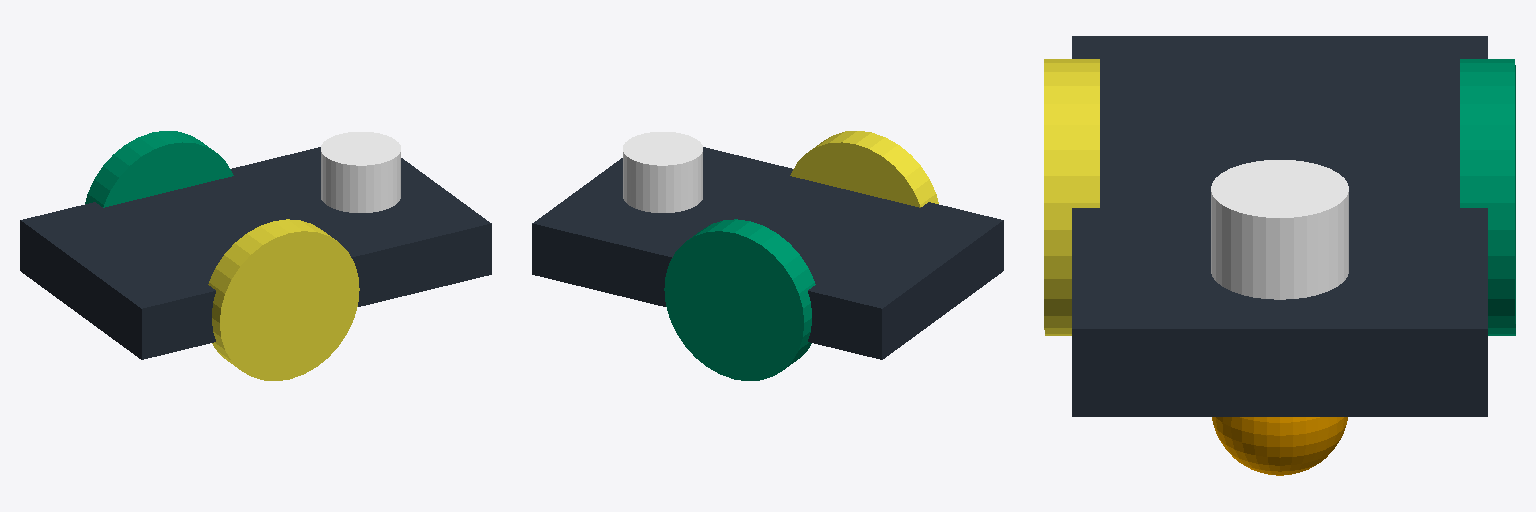
URDF robot description (m2wr):
<?xml version="1.0" ?>
<!-- =================================================================================== -->
<!-- |    This document was autogenerated by xacro from urdf/m2wr.xacro                | -->
<!-- |    EDITING THIS FILE BY HAND IS NOT RECOMMENDED                                 | -->
<!-- =================================================================================== -->
<robot name="m2wr" xmlns:xacro="http://www.ros.org/wiki/xacro">
  <material name="black">
    <color rgba="0.0 0.0 0.0 1.0"/>
  </material>
  <material name="blue">
    <color rgba="0.203125 0.23828125 0.28515625 1.0"/>
  </material>
  <material name="green">
    <color rgba="0.0 0.8 0.0 1.0"/>
  </material>
  <material name="grey">
    <color rgba="0.2 0.2 0.2 1.0"/>
  </material>
  <material name="orange">
    <color rgba="1.0 0.423529411765 0.0392156862745 1.0"/>
  </material>
  <material name="brown">
    <color rgba="0.870588235294 0.811764705882 0.764705882353 1.0"/>
  </material>
  <material name="red">
    <color rgba="0.80078125 0.12890625 0.1328125 1.0"/>
  </material>
  <material name="white">
    <color rgba="1.0 1.0 1.0 1.0"/>
  </material>
  <gazebo>
    <plugin filename="libgazebo_ros_diff_drive.so" name="differential_drive_controller">
      <alwaysOn>true</alwaysOn>
      <legacyMode>false</legacyMode>
      <updateRate>20</updateRate>
      <robotNamespace>/</robotNamespace>
      <leftJoint>joint_left_wheel</leftJoint>
      <rightJoint>joint_right_wheel</rightJoint>
      <wheelSeparation>0.4</wheelSeparation>
      <wheelDiameter>0.2</wheelDiameter>
      <torque>0.1</torque>
      <commandTopic>cmd_vel</commandTopic>
      <odometryTopic>odom_diffdrive</odometryTopic>
      <odometryFrame>odom</odometryFrame>
      <odometrySource>world</odometrySource>
      <publishTf>1</publishTf>
      <publishOdomTF>true</publishOdomTF>
      <rosDebugLevel>na</rosDebugLevel>
      <wheelAcceleration>0</wheelAcceleration>
      <wheelTorque>5</wheelTorque>
      <robotBaseFrame>link_chassis</robotBaseFrame>
      <publishWheelTF>false</publishWheelTF>
      <publishWheelJointState>false</publishWheelJointState>
    </plugin>
  </gazebo>
  <gazebo reference="sensor_laser">
    <sensor name="head_hokuyo_sensor" type="ray">
      <pose>0 0 0 0 0 0</pose>
      <visualize>false</visualize>
      <update_rate>20</update_rate>
      <ray>
        <scan>
          <horizontal>
            <samples>720</samples>
            <resolution>1</resolution>
            <min_angle>-1.570796</min_angle>
            <max_angle>1.570796</max_angle>
          </horizontal>
        </scan>
        <range>
          <min>0.10</min>
          <max>10.0</max>
          <resolution>0.01</resolution>
        </range>
        <noise>
          <type>gaussian</type>
          <mean>0.0</mean>
          <stddev>0.01</stddev>
        </noise>
      </ray>
      <plugin filename="libgazebo_ros_laser.so" name="gazebo_ros_head_hokuyo_controller">
        <topicName>/m2wr/laser/scan</topicName>
        <frameName>sensor_laser</frameName>
      </plugin>
    </sensor>
  </gazebo>
  <gazebo reference="link_chassis">
    <visual name="caster_front_visual">
      <material>
        <script>
          <uri>file:/[local-path]/scripts/gazebo.material</uri>
          <name>Gazebo/Orange</name>
        </script>
      </material>
    </visual>
  </gazebo>
  <gazebo reference="link_left_wheel">
    <material>Gazebo/Blue</material>
  </gazebo>
  <gazebo reference="link_right_wheel">
    <material>Gazebo/Blue</material>
  </gazebo>
  <link name="link_chassis">
    <pose>0 0 0.1 0 0 0</pose>
    <!-- body -->
    <inertial>
      <mass value="5"/>
      <origin rpy="0 0 0" xyz="0 0 0.1"/>
      <inertia ixx="0.0395416666667" ixy="0" ixz="0" iyy="0.106208333333" iyz="0" izz="0.106208333333"/>
    </inertial>
    <collision name="collision_chassis">
      <geometry>
        <box size="0.5 0.3 0.07"/>
      </geometry>
    </collision>
    <visual>
      <origin rpy="0 0 0" xyz="0 0 0"/>
      <geometry>
        <box size="0.5 0.3 0.07"/>
      </geometry>
      <material name="blue"/>
    </visual>
    <!-- caster -->
    <collision name="caster_front_collision">
      <origin rpy=" 0 0 0" xyz="0.2 0 -0.05"/>
      <geometry>
        <sphere radius="0.05"/>
      </geometry>
      <surface>
        <friction>
          <ode>
            <mu>0</mu>
            <mu2>0</mu2>
            <slip1>1.0</slip1>
            <slip2>1.0</slip2>
          </ode>
        </friction>
      </surface>
    </collision>
    <visual name="caster_front_visual">
      <origin rpy=" 0 0 0" xyz="0.2 0 -0.05"/>
      <geometry>
        <sphere radius="0.05"/>
      </geometry>
    </visual>
  </link>
  <link name="sensor_laser">
    <inertial>
      <origin rpy="0 0 0" xyz="0 0 0"/>
      <mass value="1"/>
      <inertia ixx="0.00145833333333" ixy="0" ixz="0" iyy="0.00145833333333" iyz="0" izz="0.00125"/>
    </inertial>
    <visual>
      <origin rpy="0 0 0" xyz="0 0 0"/>
      <geometry>
        <cylinder length="0.1" radius="0.05"/>
      </geometry>
      <material name="white"/>
    </visual>
    <collision>
      <origin rpy="0 0 0" xyz="0 0 0"/>
      <geometry>
        <cylinder length="0.1" radius="0.05"/>
      </geometry>
    </collision>
  </link>
  <joint name="joint_sensor_laser" type="fixed">
    <origin rpy="0 0 0" xyz="0.15 0 0.05"/>
    <parent link="link_chassis"/>
    <child link="sensor_laser"/>
  </joint>
  <link name="link_right_wheel">
    <inertial>
      <mass value="0.2"/>
      <origin rpy="0 1.5707 1.5707" xyz="0 0 0"/>
      <inertia ixx="0.00052666666" ixy="0" ixz="0" iyy="0.00052666666" iyz="0" izz="0.001"/>
    </inertial>
    <collision name="link_right_wheel_collision">
      <origin rpy="0 1.5707 1.5707" xyz="0 0 0"/>
      <geometry>
        <cylinder length="0.04" radius="0.1"/>
      </geometry>
    </collision>
    <visual name="link_right_wheel_visual">
      <origin rpy="0 1.5707 1.5707" xyz="0 0 0"/>
      <geometry>
        <cylinder length="0.04" radius="0.1"/>
      </geometry>
    </visual>
  </link>
  <joint name="joint_right_wheel" type="continuous">
    <origin rpy="0 0 0" xyz="-0.05 0.15 0"/>
    <child link="link_right_wheel"/>
    <parent link="link_chassis"/>
    <axis rpy="0 0 0" xyz="0 1 0"/>
    <limit effort="10000" velocity="1000"/>
    <joint_properties damping="1.0" friction="1.0"/>
  </joint>
  <link name="link_left_wheel">
    <inertial>
      <mass value="0.2"/>
      <origin rpy="0 1.5707 1.5707" xyz="0 0 0"/>
      <inertia ixx="0.00052666666" ixy="0" ixz="0" iyy="0.00052666666" iyz="0" izz="0.001"/>
    </inertial>
    <collision name="link_left_wheel_collision">
      <origin rpy="0 1.5707 1.5707" xyz="0 0 0"/>
      <geometry>
        <cylinder length="0.04" radius="0.1"/>
      </geometry>
    </collision>
    <visual name="link_left_wheel_visual">
      <origin rpy="0 1.5707 1.5707" xyz="0 0 0"/>
      <geometry>
        <cylinder length="0.04" radius="0.1"/>
      </geometry>
    </visual>
  </link>
  <joint name="joint_left_wheel" type="continuous">
    <origin rpy="0 0 0" xyz="-0.05 -0.15 0"/>
    <child link="link_left_wheel"/>
    <parent link="link_chassis"/>
    <axis rpy="0 0 0" xyz="0 1 0"/>
    <limit effort="10000" velocity="1000"/>
    <joint_properties damping="1.0" friction="1.0"/>
  </joint>
</robot>

--- Facts derived from the render (not from the file) ---
Views: 3 orthographic renders of the robot side by side, from view 1: azimuth 30°, elevation 25°; view 2: azimuth 150°, elevation 25°; view 3: azimuth 270°, elevation 25°.
Model m2wr with 4 links and 3 joints (2 continuous, 1 fixed), rooted at link_chassis, posed all joints at 0.
Visible links, largest first — view 1: link_chassis, link_left_wheel, link_right_wheel, sensor_laser; view 2: link_chassis, link_right_wheel, link_left_wheel, sensor_laser; view 3: link_chassis, sensor_laser, link_right_wheel, link_left_wheel.
Link boxes in pixels (x1,y1,x2,y2): link_chassis: (20,147,491,359); link_left_wheel: (208,219,359,380); link_right_wheel: (85,131,233,207); sensor_laser: (321,132,400,212); link_chassis: (532,147,1003,359); link_right_wheel: (664,219,815,380); link_left_wheel: (790,131,938,207); sensor_laser: (623,132,702,212); link_chassis: (1072,36,1487,475); sensor_laser: (1211,160,1348,299); link_right_wheel: (1460,59,1515,335); link_left_wheel: (1044,59,1099,335).
Bounding box of the posed robot: 0.5 × 0.34 × 0.2 m (x, y, z).
Geometry: primitives only (box / cylinder / sphere), no mesh files.
